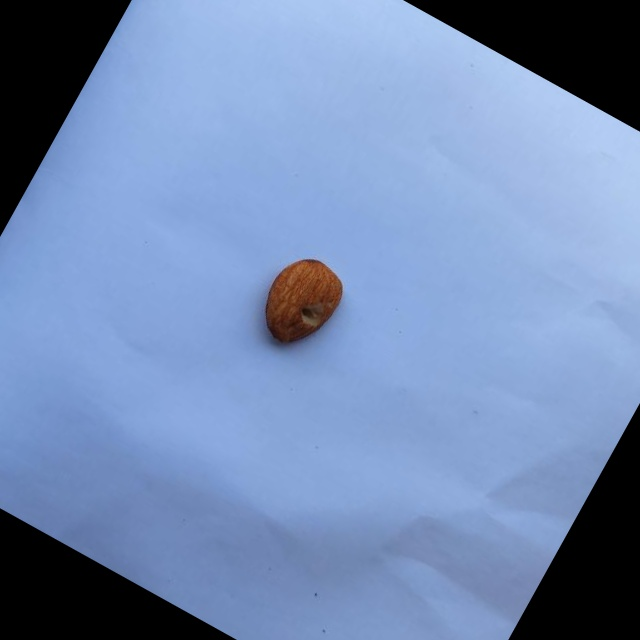grade3: (246, 242, 359, 365)
